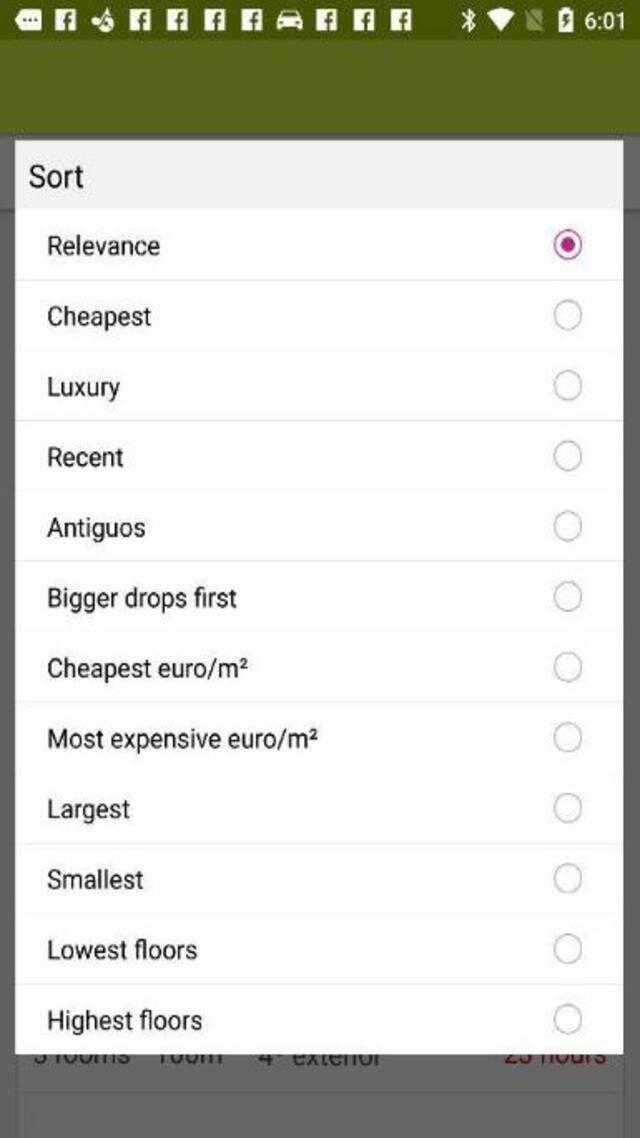CheckedTextView: (47, 791, 581, 824), (47, 298, 581, 330), (47, 651, 581, 683), (47, 722, 581, 754), (47, 860, 581, 892), (46, 580, 582, 610), (47, 371, 581, 401), (47, 440, 581, 470), (49, 512, 583, 542), (47, 932, 581, 962), (47, 1004, 581, 1034), (47, 229, 581, 258)
Text: (49, 726, 318, 753), (49, 655, 248, 682), (46, 585, 236, 610), (48, 1008, 201, 1033), (48, 937, 196, 958), (48, 306, 151, 331), (48, 233, 158, 254), (50, 518, 146, 542), (50, 798, 130, 824), (49, 868, 144, 889), (48, 378, 122, 401), (49, 444, 124, 466), (30, 164, 83, 188)
